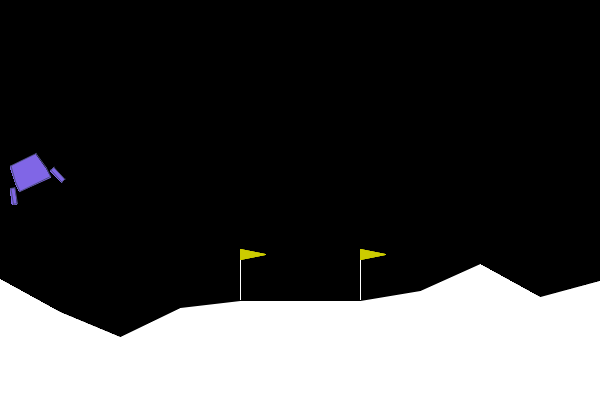lander: (0, 145, 67, 207)
